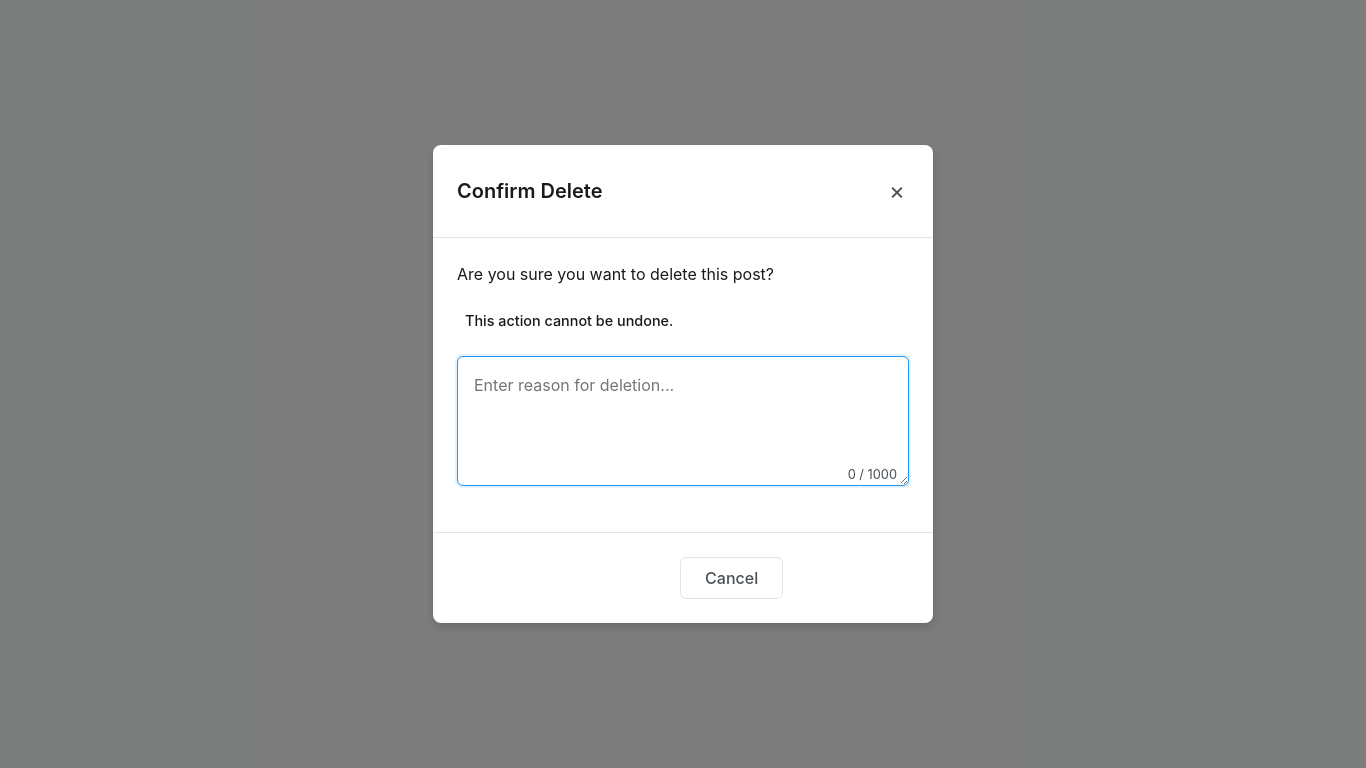
Test: ModerationDialog › should show character count for reason input
Step 1. Type "Test reason" into the text box with placeholder "Enter reason for deletion..." → (683, 421), box [457,356,909,486]
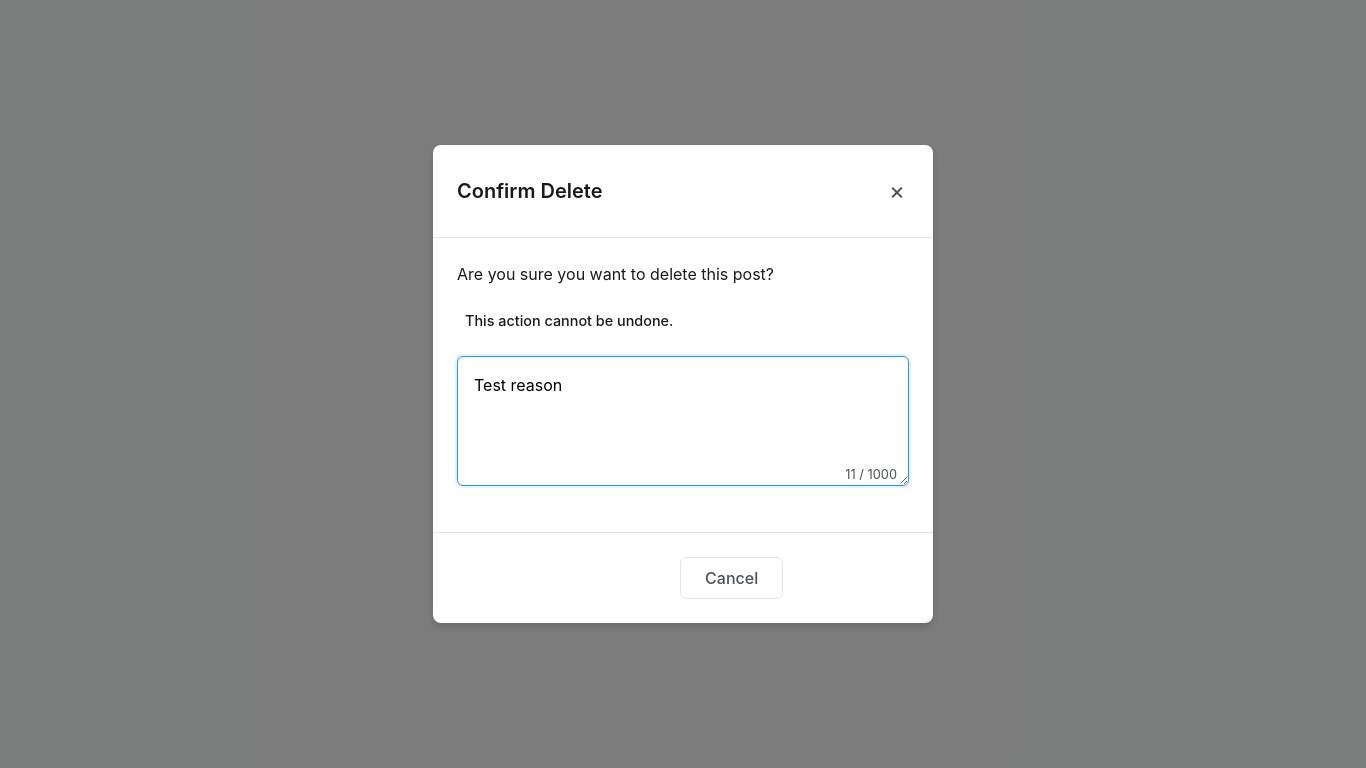
Now the text "11 / 1000" is shown, box [841,465,901,484]
